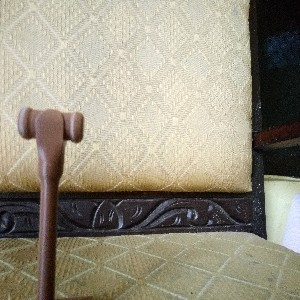palu: (16, 106, 85, 300)
